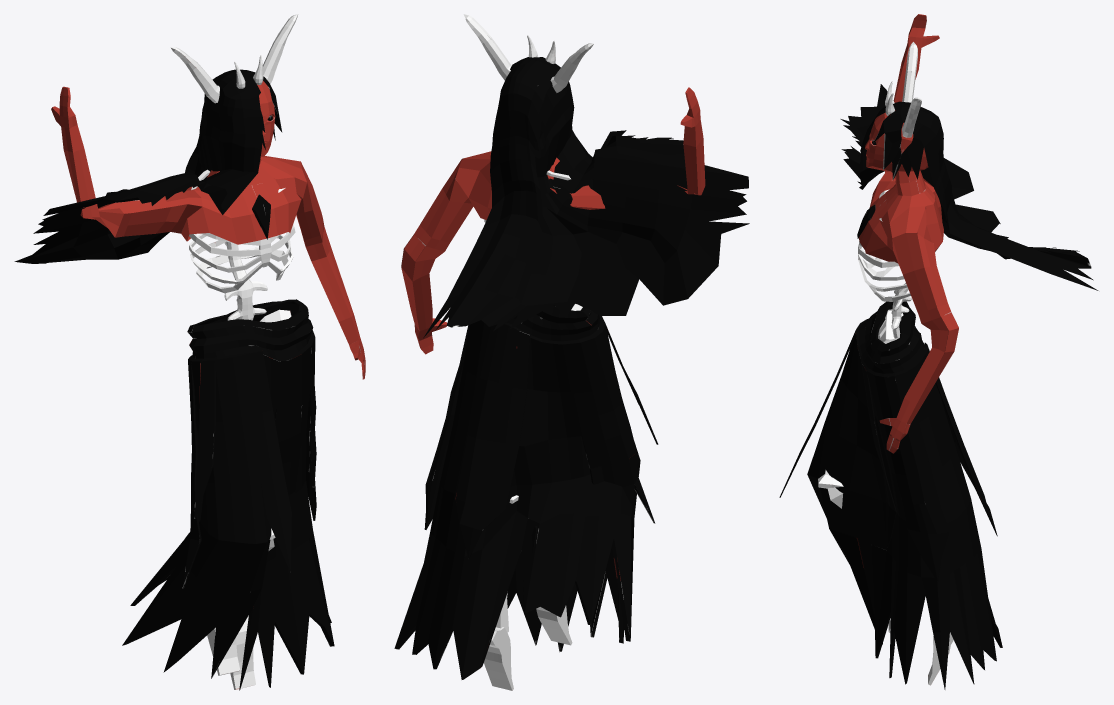
The model's file is cursedqueenattack_15.fbx.
3 renders of one model, left to right at view 1: azimuth 30°, elevation 25°; view 2: azimuth 150°, elevation 25°; view 3: azimuth 270°, elevation 25°, orthographic. The views are drawn at different scales.
Visible parts, largest first — view 1: cursed_queen; view 2: cursed_queen; view 3: cursed_queen.
Part boxes in pixels (left/top/right/bottom): cursed_queen: left=14, top=14, right=365, bottom=690; cursed_queen: left=394, top=14, right=749, bottom=690; cursed_queen: left=779, top=14, right=1098, bottom=689.
Bounding box in the file's own units: 148 × 281 × 135.
